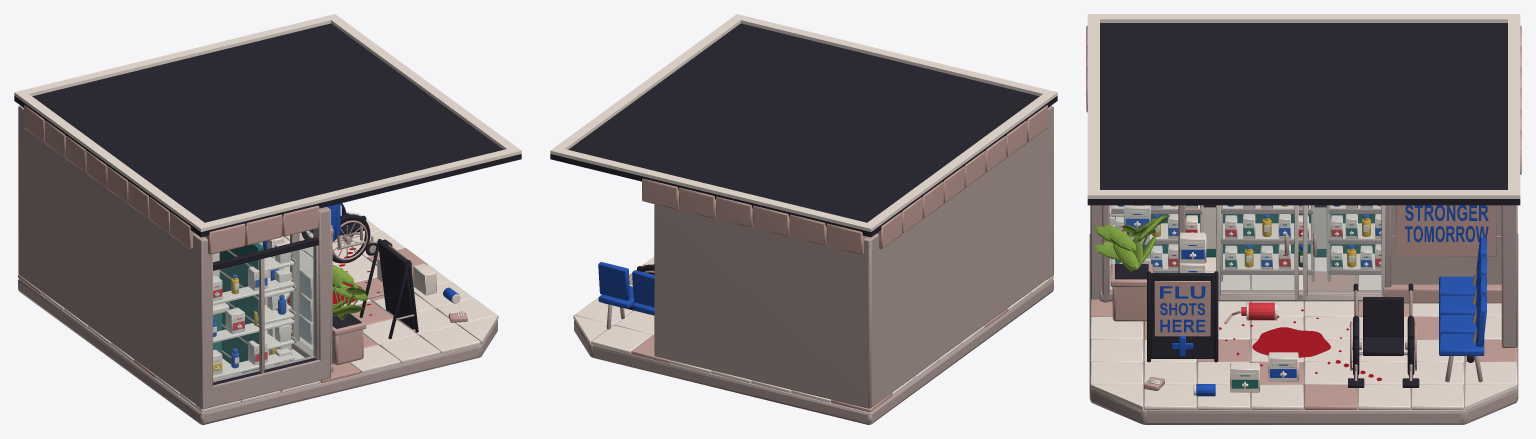
3 views of the same model, side by side, from view 1: azimuth 30°, elevation 25°; view 2: azimuth 150°, elevation 25°; view 3: azimuth 270°, elevation 25° (orthographic). The views are drawn at different scales.
Parts seen in each view (by area): view 1: roof_pal_uiDark, interior_pal_sidewalk, interior_pal_picketWhite, interior_keep_glass, roof_pal_picketWhite, interior_pal_infectedSkin, interior_pal_uiDark, interior_pal_backpackTeal, interior_pal_policeBlue, interior_pal_grass, interior_pal_foliage; view 2: interior_pal_sidewalk, roof_pal_uiDark, roof_pal_picketWhite, interior_pal_infectedSkin, interior_pal_picketWhite, interior_pal_policeBlue; view 3: roof_pal_uiDark, interior_pal_picketWhite, interior_pal_sidewalk, interior_pal_infectedSkin, roof_pal_picketWhite, interior_pal_policeBlue, interior_pal_uiDark, door_L_keep_glass, door_R_keep_glass, interior_keep_glass, interior_pal_backpackTeal, interior_pal_blood (+7 smaller).
Part boxes in pixels (x1,y1,x2,y2): roof_pal_uiDark: (14,23,521,237); interior_pal_sidewalk: (18,105,497,424); interior_pal_picketWhite: (41,212,498,412); interior_keep_glass: (213,231,313,381); roof_pal_picketWhite: (14,14,521,231); interior_pal_infectedSkin: (18,105,467,382); interior_pal_uiDark: (213,213,418,385); interior_pal_backpackTeal: (213,243,291,372); interior_pal_policeBlue: (213,203,458,368); interior_pal_grass: (332,268,365,320); interior_pal_foliage: (332,265,367,316); interior_pal_sidewalk: (574,106,1053,424); roof_pal_uiDark: (550,23,1057,237); roof_pal_picketWhite: (550,14,1057,231); interior_pal_infectedSkin: (629,105,1047,412); interior_pal_picketWhite: (573,257,1053,402); interior_pal_policeBlue: (598,262,654,315); roof_pal_uiDark: (1087,23,1520,205); interior_pal_picketWhite: (1090,205,1517,409); interior_pal_sidewalk: (1089,205,1518,424); interior_pal_infectedSkin: (1086,25,1521,409); roof_pal_picketWhite: (1087,14,1520,198); interior_pal_policeBlue: (1117,205,1488,396); interior_pal_uiDark: (1115,205,1474,387); door_L_keep_glass: (1221,206,1293,292); door_R_keep_glass: (1308,206,1380,292); interior_keep_glass: (1110,206,1177,290); interior_pal_backpackTeal: (1112,205,1374,388); interior_pal_blood: (1219,309,1381,381).
Size of the model in its own units: 6.3 by 3.71 by 6.35.
